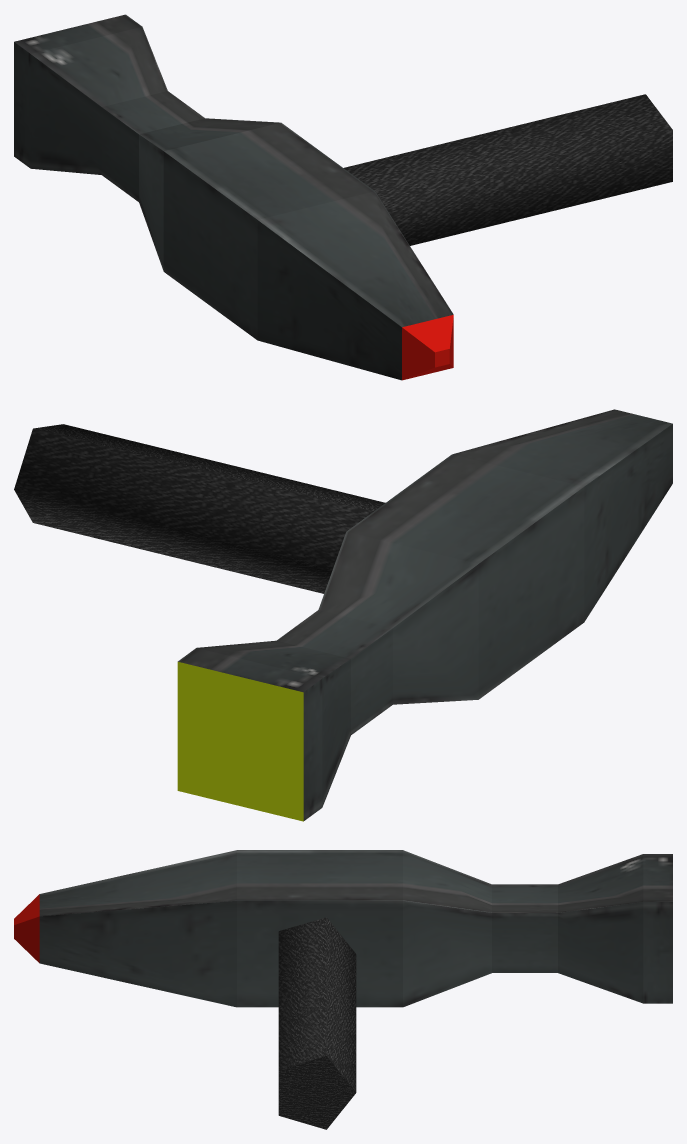
The model's file is Tool_01.fbx.
3 renders of one model, top to bottom at view 1: azimuth 30°, elevation 25°; view 2: azimuth 150°, elevation 25°; view 3: azimuth 270°, elevation 25°, orthographic. The views are drawn at different scales.
Parts seen in each view (by area): view 1: Tool_01; view 2: Tool_01; view 3: Tool_01.
Boxes of the visible parts, x1,y1,x2,y2 form: Tool_01: (14,14,672,380); Tool_01: (14,409,672,821); Tool_01: (14,850,672,1129).
Size of the model in its own units: 25.56 by 6.71 by 37.57.
